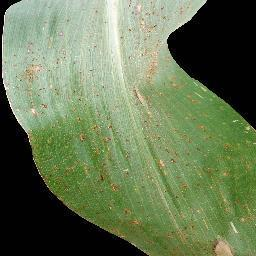Corn_Common_Rust: (73, 44, 112, 219), (123, 0, 199, 79), (1, 39, 71, 114), (20, 115, 73, 211), (122, 208, 197, 256), (187, 128, 235, 186), (21, 7, 110, 35), (140, 126, 183, 174), (153, 80, 223, 103), (114, 128, 139, 189), (122, 79, 153, 125), (200, 227, 245, 256), (216, 194, 256, 225), (162, 183, 185, 201), (241, 117, 254, 136), (186, 116, 200, 125)
